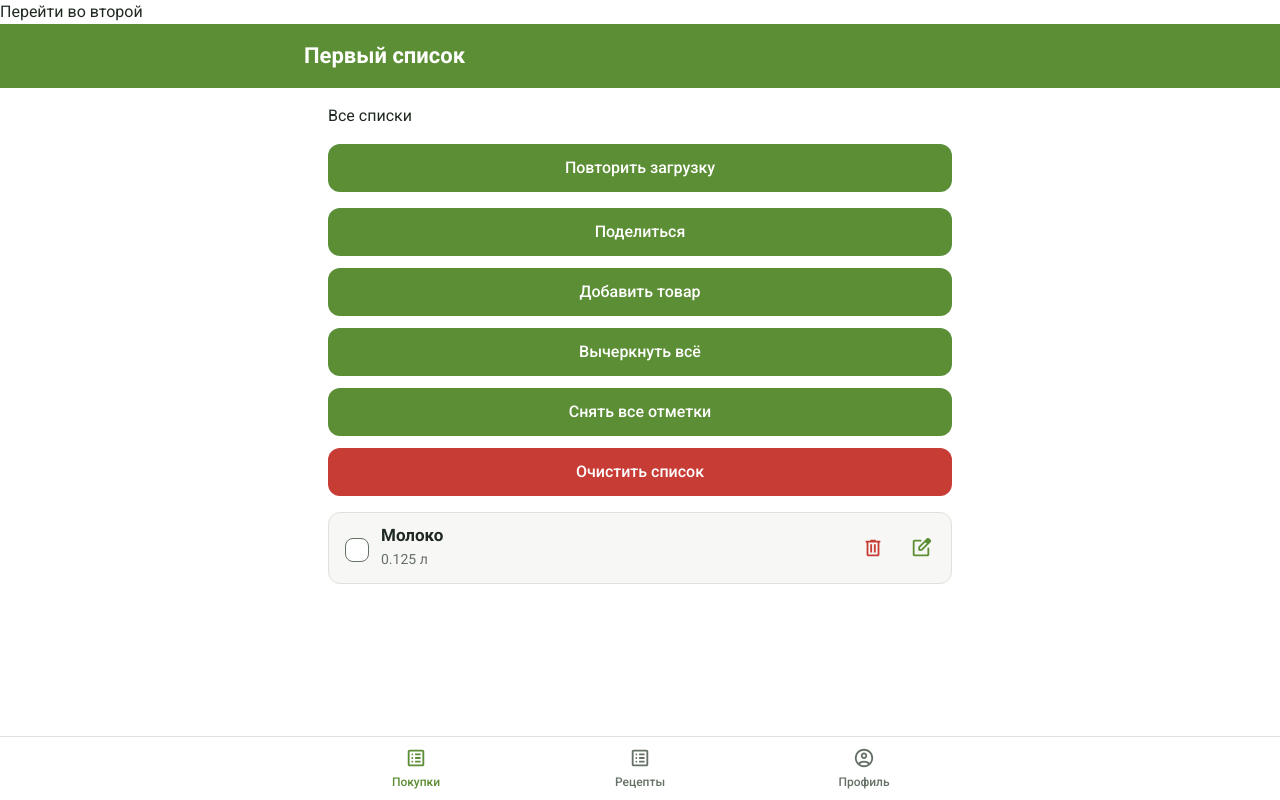
Test: Страницы нескольких списков › повтор создания уже загруженной позиции не дублирует её в UI
This screenshot has width=1280, height=800.
Expected: the heading "Молоко" is shown, top-left (381, 526), bottom-right (443, 545)
Click the button "Добавить товар" at (640, 292), box top-left (328, 268), bottom-right (952, 316)
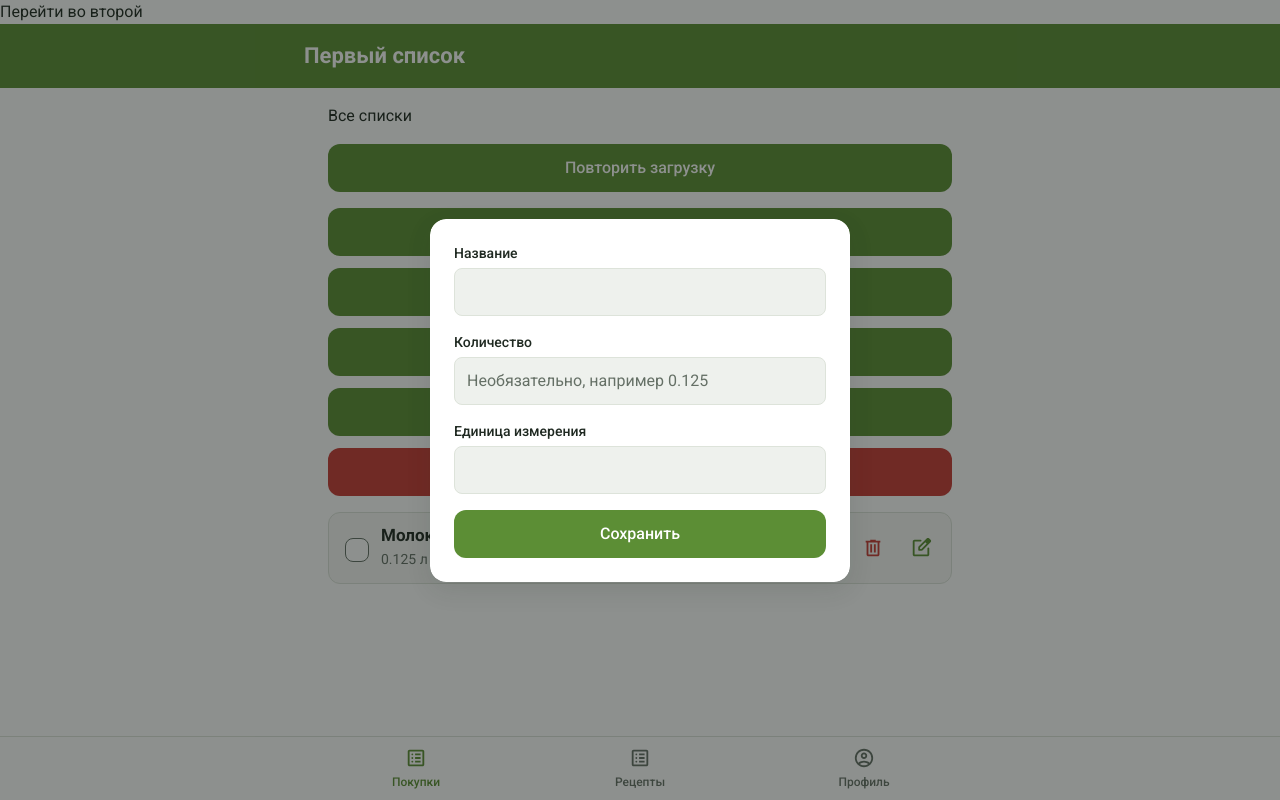
Type "Молоко" into the field labelled "Название" at (640, 292), box top-left (454, 268), bottom-right (826, 316)
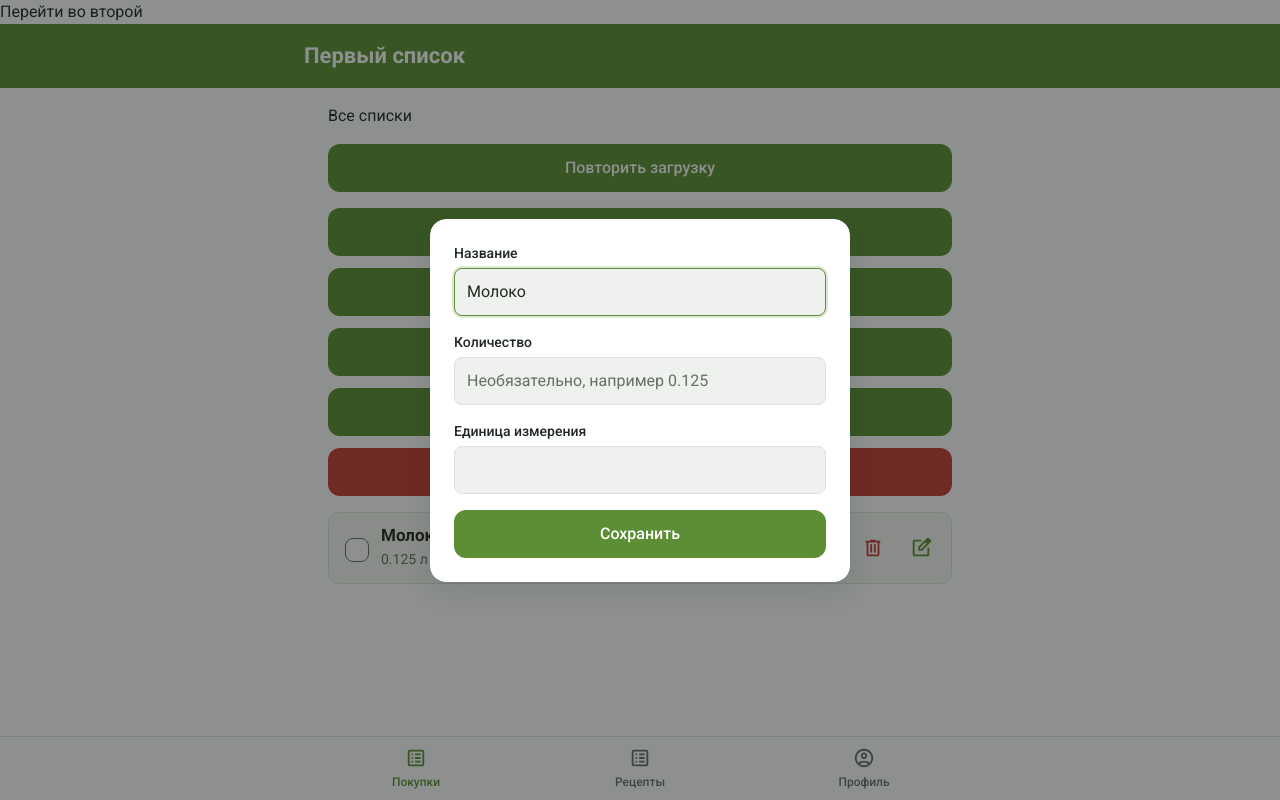
Click the button "Сохранить" at (640, 534), box top-left (454, 510), bottom-right (826, 558)
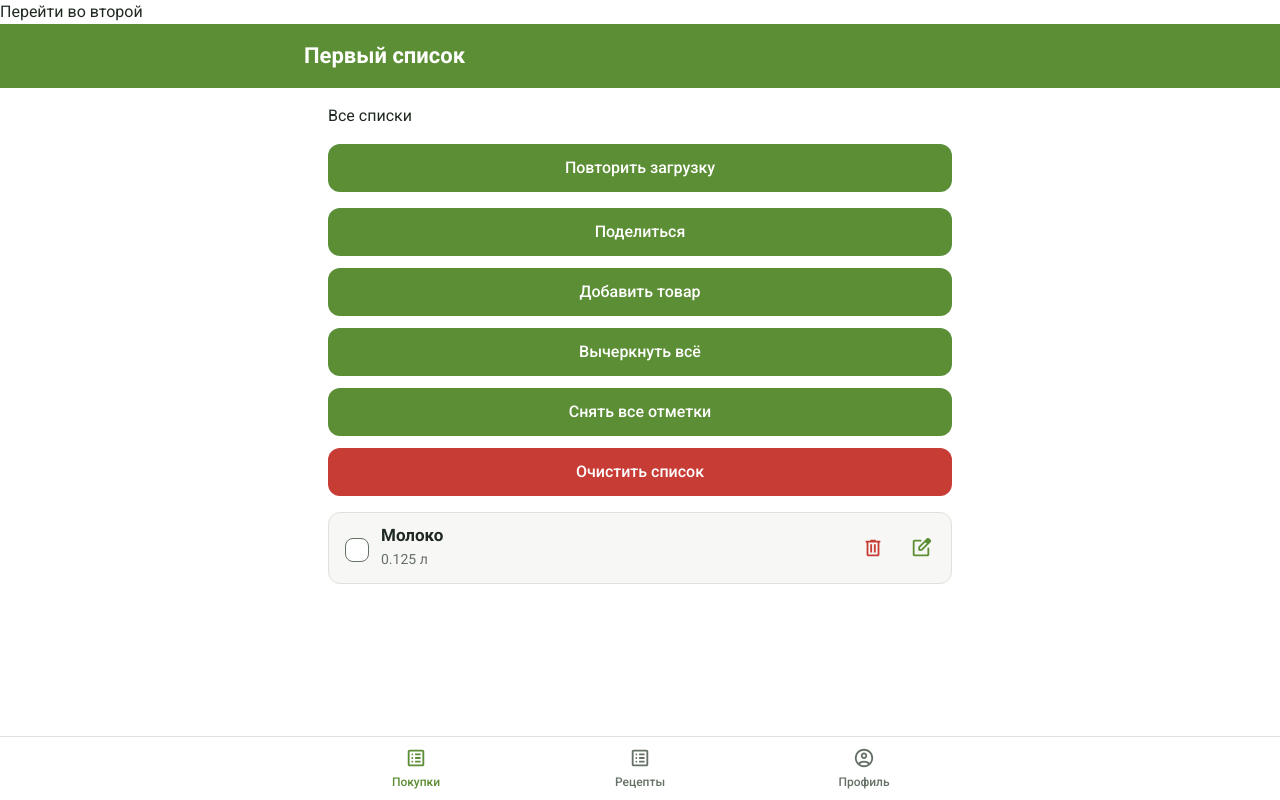
Expected: the number of headings "Молоко" is 1, top-left (381, 526), bottom-right (443, 545)
Expected: the dialog is gone
